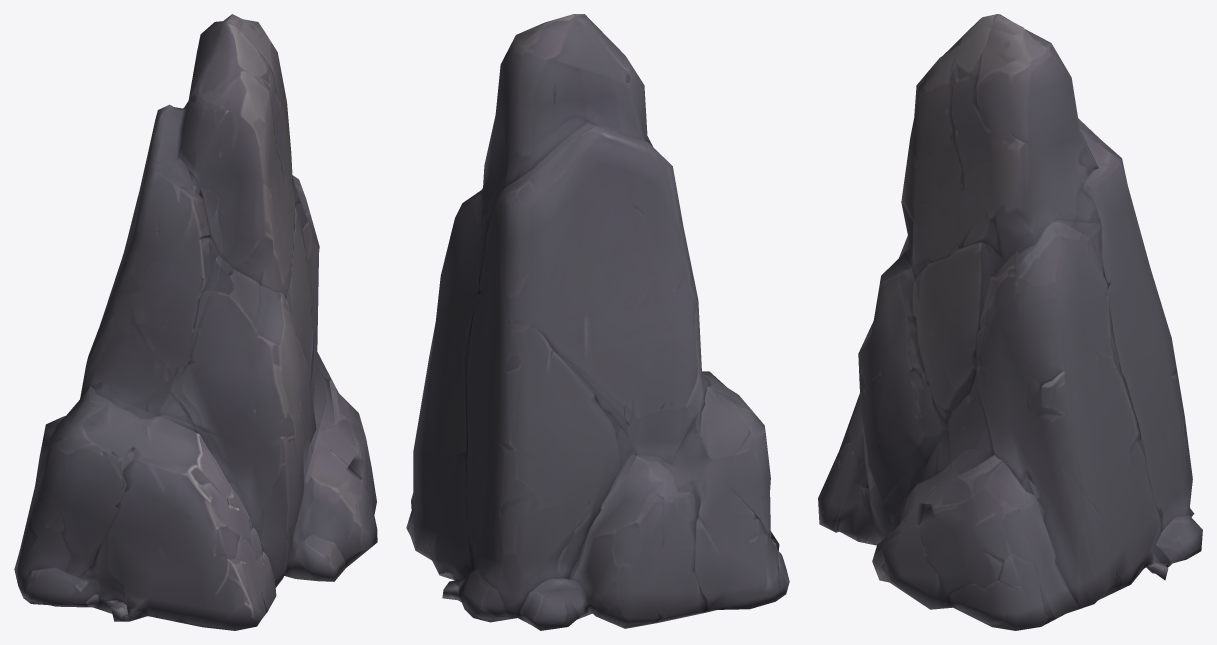
The model's file is rock_cluster.glb.
The picture shows the model from 3 angles, left to right: view 1: azimuth 30°, elevation 25°; view 2: azimuth 150°, elevation 25°; view 3: azimuth 270°, elevation 25°; orthographic projection. The views are drawn at different scales.
Parts seen in each view (by area): view 1: tripo_node_7669dfe1; view 2: tripo_node_7669dfe1; view 3: tripo_node_7669dfe1.
Boxes of the visible parts, box(x1,y1,x2,y2) form: tripo_node_7669dfe1: box(14, 14, 377, 630); tripo_node_7669dfe1: box(406, 14, 789, 630); tripo_node_7669dfe1: box(818, 14, 1202, 630).
Bounding box in the file's own units: 1.7 × 2.4 × 1.54.
Materials: 1 (1 with a texture image).
